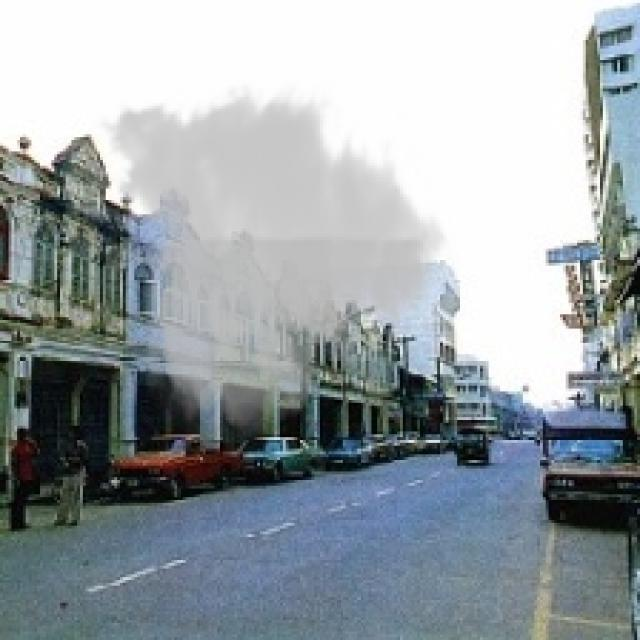Smoke: (92, 80, 457, 443)
